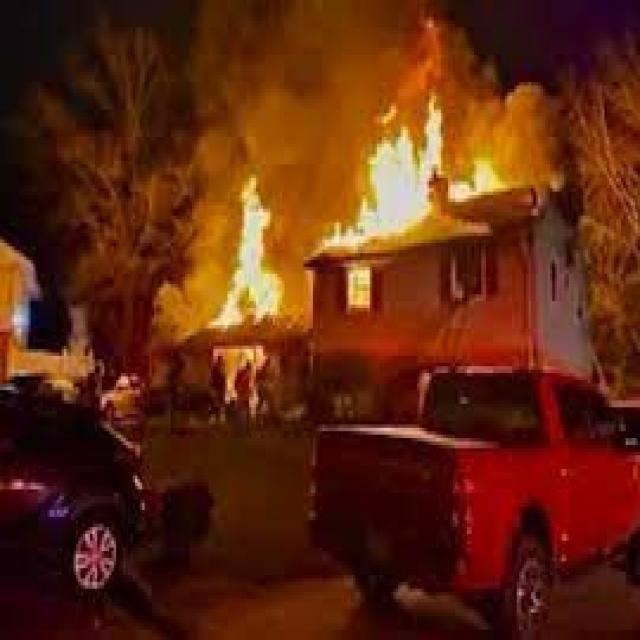Fire: (198, 0, 538, 191), (360, 118, 454, 254), (229, 183, 291, 339)
